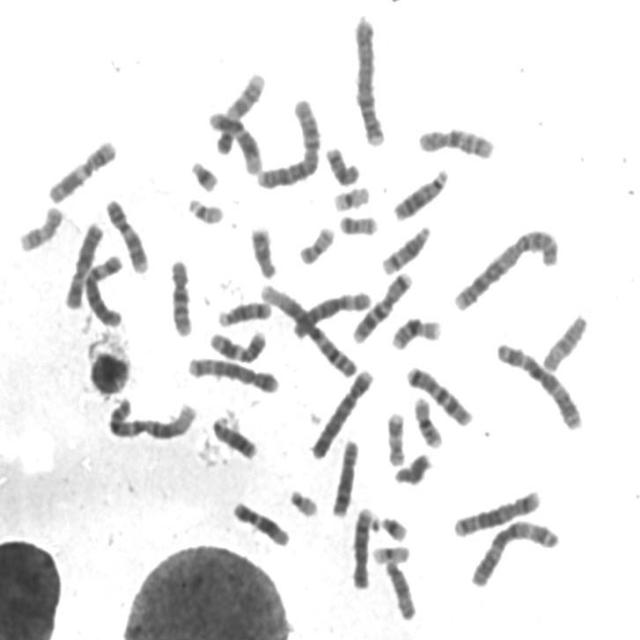A1: (256, 277, 361, 380), (104, 390, 200, 443)
A2: (449, 222, 563, 314), (253, 92, 324, 190)
A3: (492, 336, 586, 432), (466, 512, 563, 588)
B4: (307, 362, 377, 461), (350, 10, 390, 148)
B5: (450, 483, 544, 538), (183, 351, 283, 394)
C10: (415, 120, 498, 161), (166, 252, 197, 338)
C11: (44, 134, 120, 206), (206, 325, 269, 364)
C12: (204, 104, 265, 176), (229, 494, 293, 548)
C6: (289, 285, 374, 341), (79, 248, 128, 328)
C7: (348, 266, 416, 345), (402, 360, 476, 428)
C8: (328, 434, 363, 518), (348, 501, 378, 592)
C9: (212, 66, 268, 154), (102, 192, 152, 275)
D13: (389, 162, 452, 222), (208, 410, 260, 461)
D14: (379, 219, 434, 276), (215, 294, 275, 328)
D15: (538, 308, 592, 373), (381, 554, 420, 622)
E16: (388, 311, 444, 352), (409, 390, 446, 449)
E17: (15, 199, 66, 254), (383, 406, 409, 468)
E18: (246, 219, 280, 280), (322, 141, 364, 187)
F19: (329, 180, 374, 213), (369, 539, 413, 565)
F20: (295, 219, 339, 266), (336, 208, 382, 237)
G21: (186, 154, 222, 193), (372, 509, 411, 543)
G22: (184, 192, 227, 226), (285, 483, 322, 518)
X: (60, 216, 106, 312)
Y: (390, 447, 435, 486)
